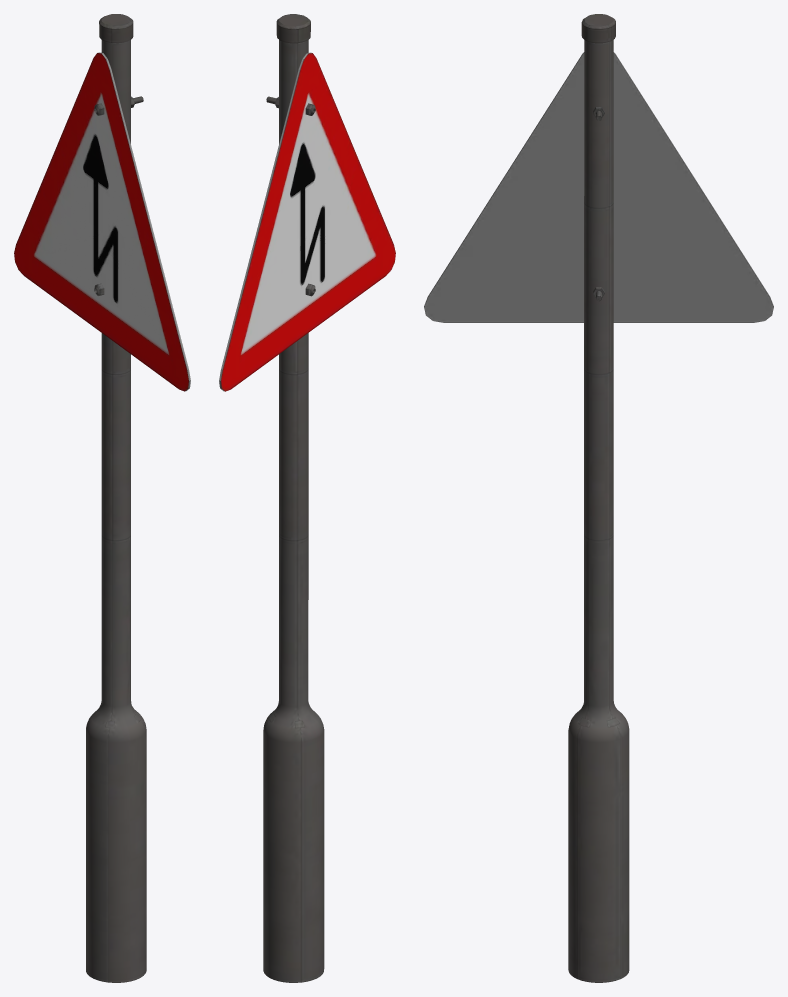
File: billboard-up-trangle.glb
3 renders of one model, left to right at view 1: azimuth 30°, elevation 25°; view 2: azimuth 150°, elevation 25°; view 3: azimuth 270°, elevation 25°, orthographic.
Parts seen in each view (by area): view 1: up trangle; view 2: up trangle; view 3: up trangle.
Boxes of the visible parts, left/top/right/bottom form: up trangle: left=14, top=14, right=190, bottom=982; up trangle: left=219, top=14, right=395, bottom=982; up trangle: left=424, top=14, right=773, bottom=982.
Size of the model in its own units: 18.29 by 315 by 105.
Materials: 1 (1 with a texture image).
